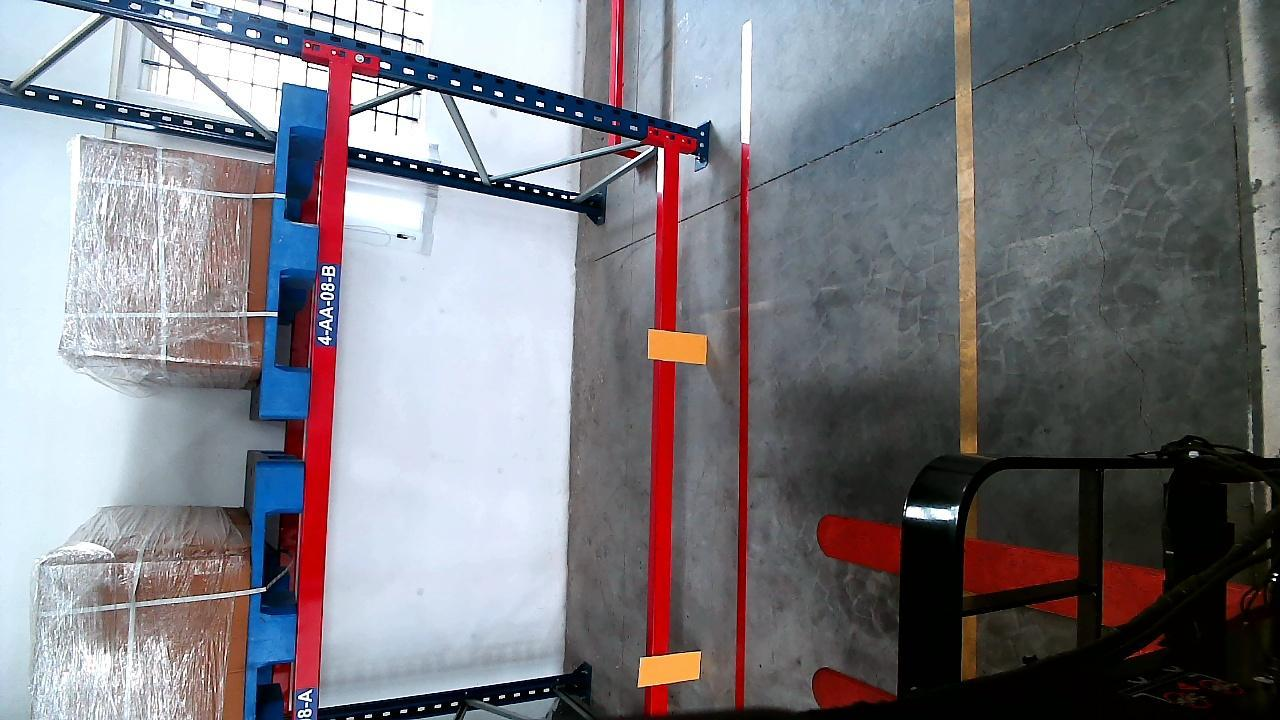red_line: (729, 142, 753, 707)
yellow_line: (955, 2, 981, 444)
